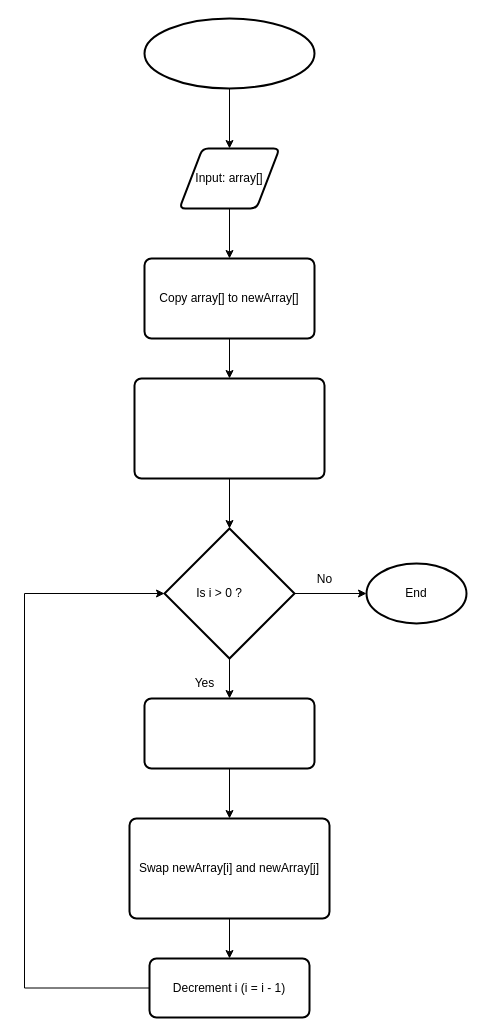
The diagram is 485 pixels wide and 1035 high, and some of its shapes have lost their labels. The shapes that lost their labels are listed below. From the top down, each one's centre as x and y in pixels, then its label:
the point at 229,53: Start
the point at 229,428: Set i = length(newArray)-1
the point at 229,733: Generate j = random(0, i)
